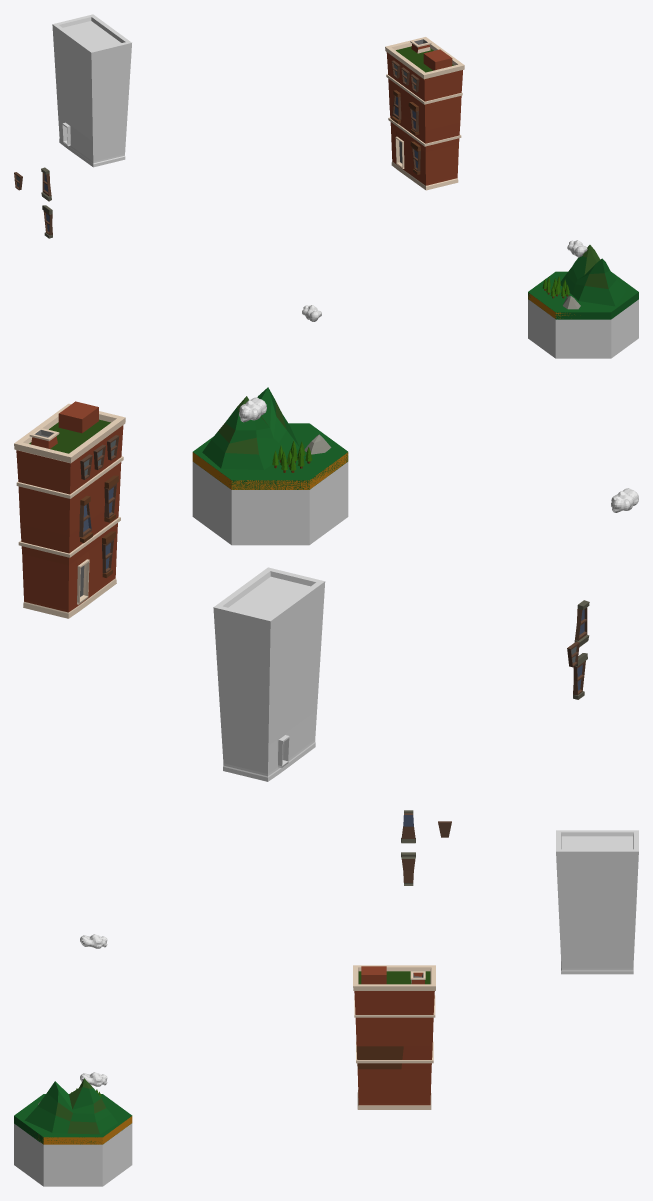
The model's file is hexa2.fbx.
The picture shows the model from 3 angles, top to bottom: view 1: azimuth 30°, elevation 25°; view 2: azimuth 150°, elevation 25°; view 3: azimuth 270°, elevation 25°; orthographic projection. The views are drawn at different scales.
Visible parts, largest first — view 1: Cube.001, Cube.003, Forest, Tile; view 2: Cube.001, Cube.003, Forest, Tile, Ground_Unpaved; view 3: Cube.001, Cube.003, Tile, Forest, Ground_Unpaved.
Part boxes in pixels (<box>): Cube.001: <box>52,14,131,167</box>; Cube.003: <box>385,37,464,190</box>; Forest: <box>528,240,638,319</box>; Tile: <box>528,299,638,358</box>; Cube.001: <box>213,567,325,781</box>; Cube.003: <box>14,401,125,618</box>; Forest: <box>193,387,348,489</box>; Tile: <box>192,462,348,545</box>; Ground_Unpaved: <box>192,452,348,489</box>; Cube.001: <box>556,830,638,974</box>; Cube.003: <box>353,965,435,1109</box>; Tile: <box>14,1123,132,1186</box>; Forest: <box>14,1072,132,1144</box>; Ground_Unpaved: <box>37,1116,132,1144</box>.
Size of the model in its own units: 901 by 366 by 1055.
